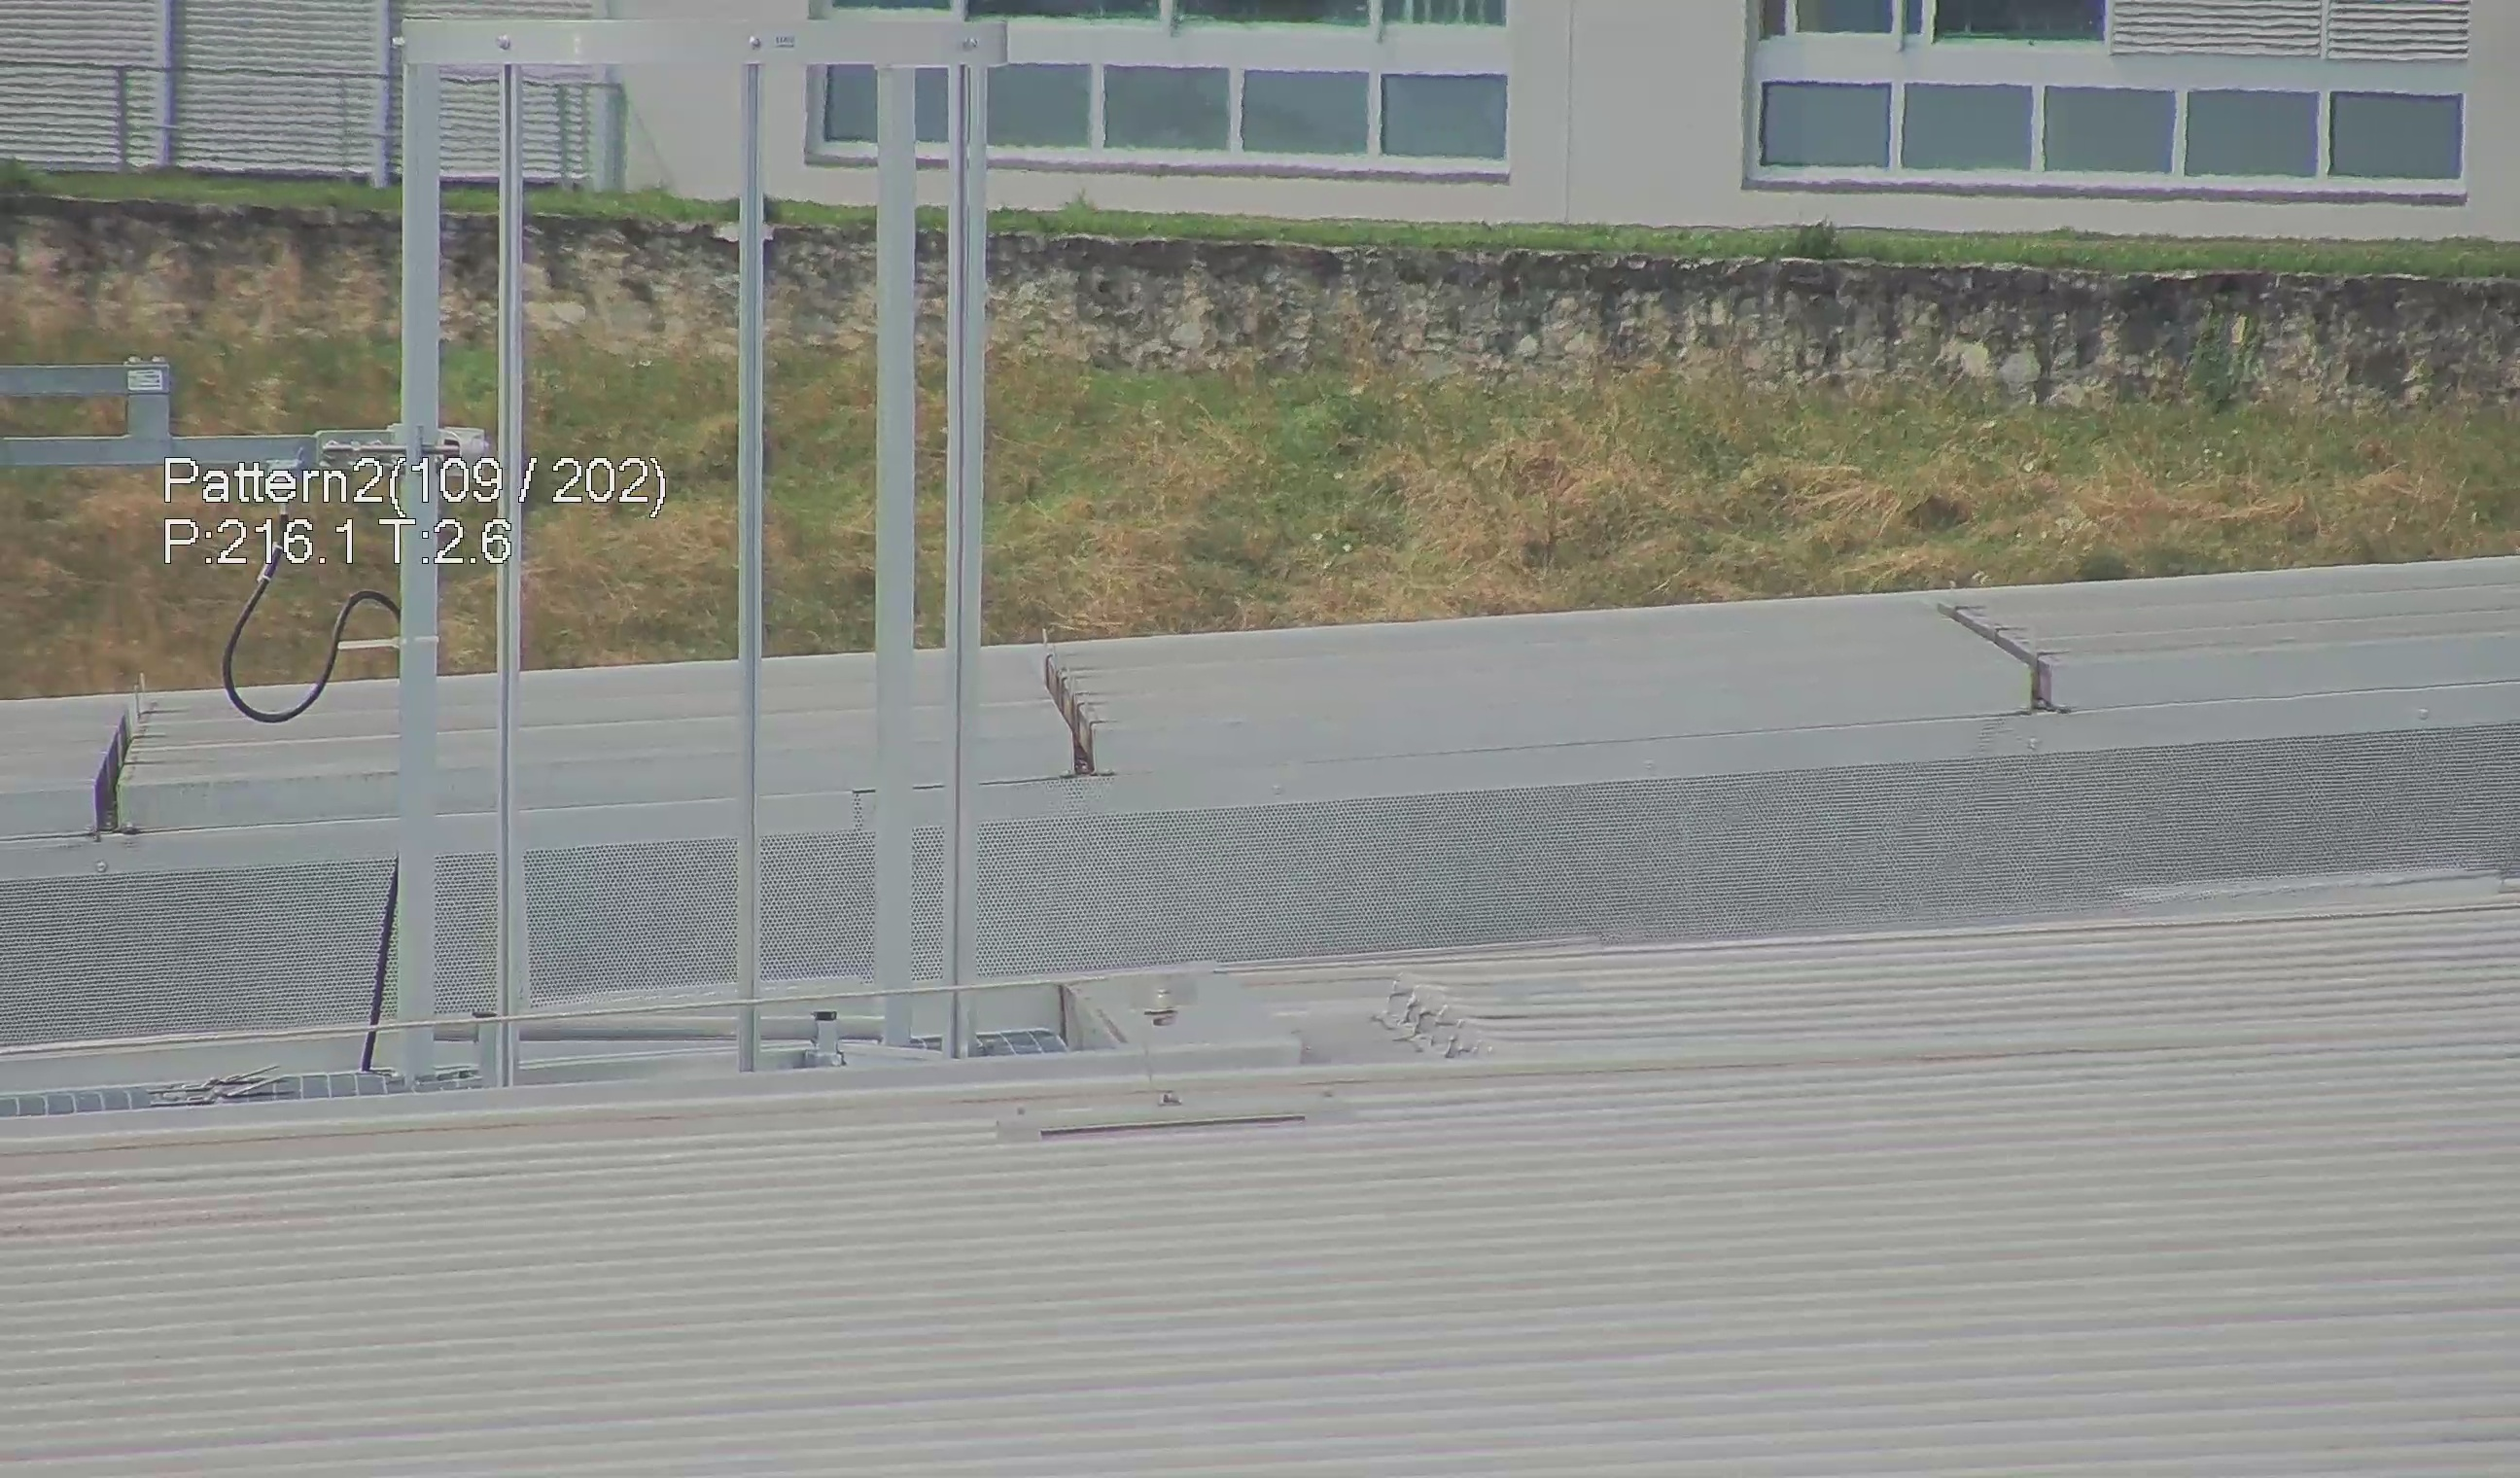Other: (1027, 630, 1125, 787)
